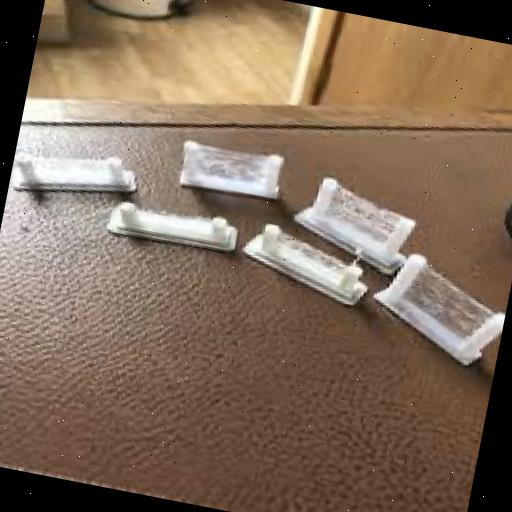stringing: (410, 266, 492, 337), (338, 188, 402, 241), (280, 233, 350, 275), (204, 142, 261, 183), (139, 204, 210, 227)
